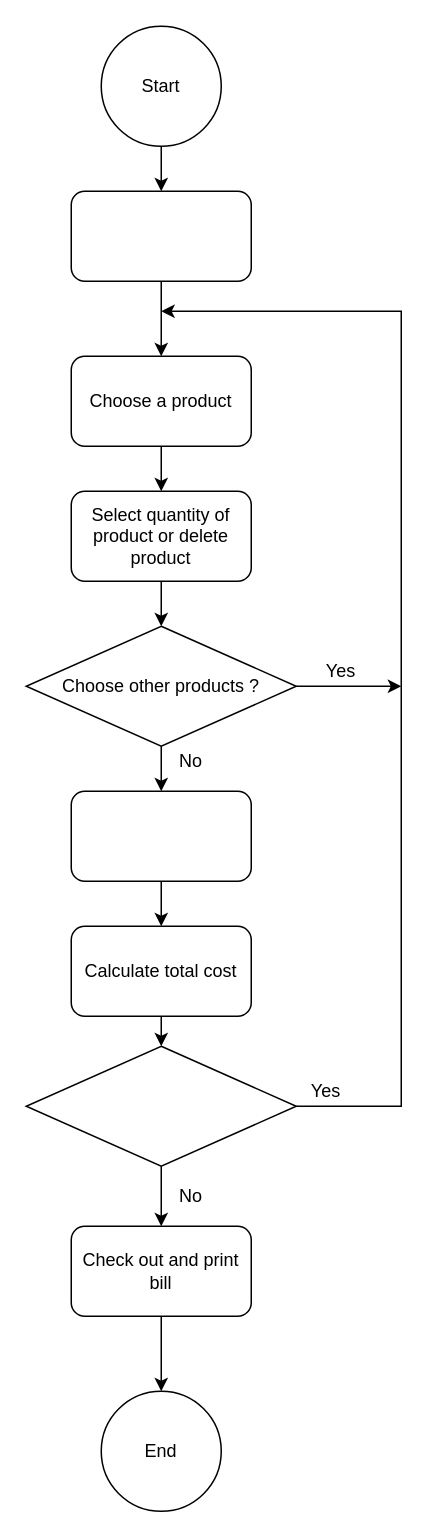
Image size: 440x1538. Some labels were removed from this diagram. The centre of each missing label's shape, as x and y in pixels:
"Add product(s) to order list" belongs at pixel 160 835.
"Display all products" belongs at pixel 160 235.
"Is order empty ?" belongs at pixel 160 1105.
